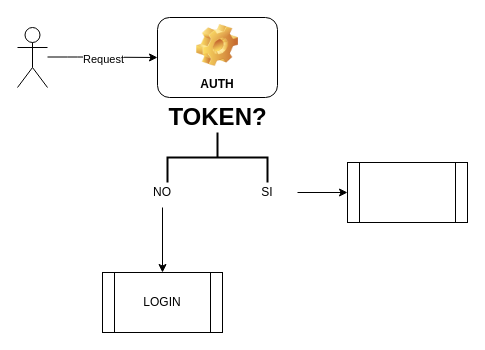
Image size: 485x350. Some labels were removed from this diagram. The centre of each missing label's shape, as x and y in pixels:
ADMIN-PAGE: [407,192]
Client: [32,57]
